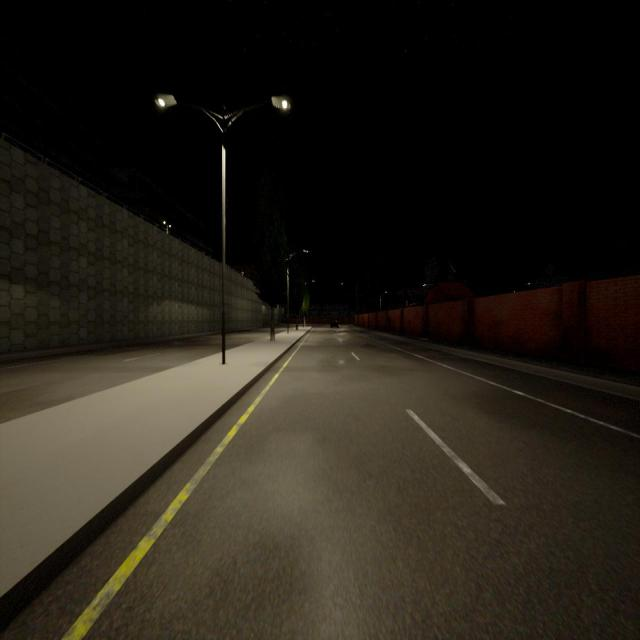Vehicle: (331, 320, 338, 328)
